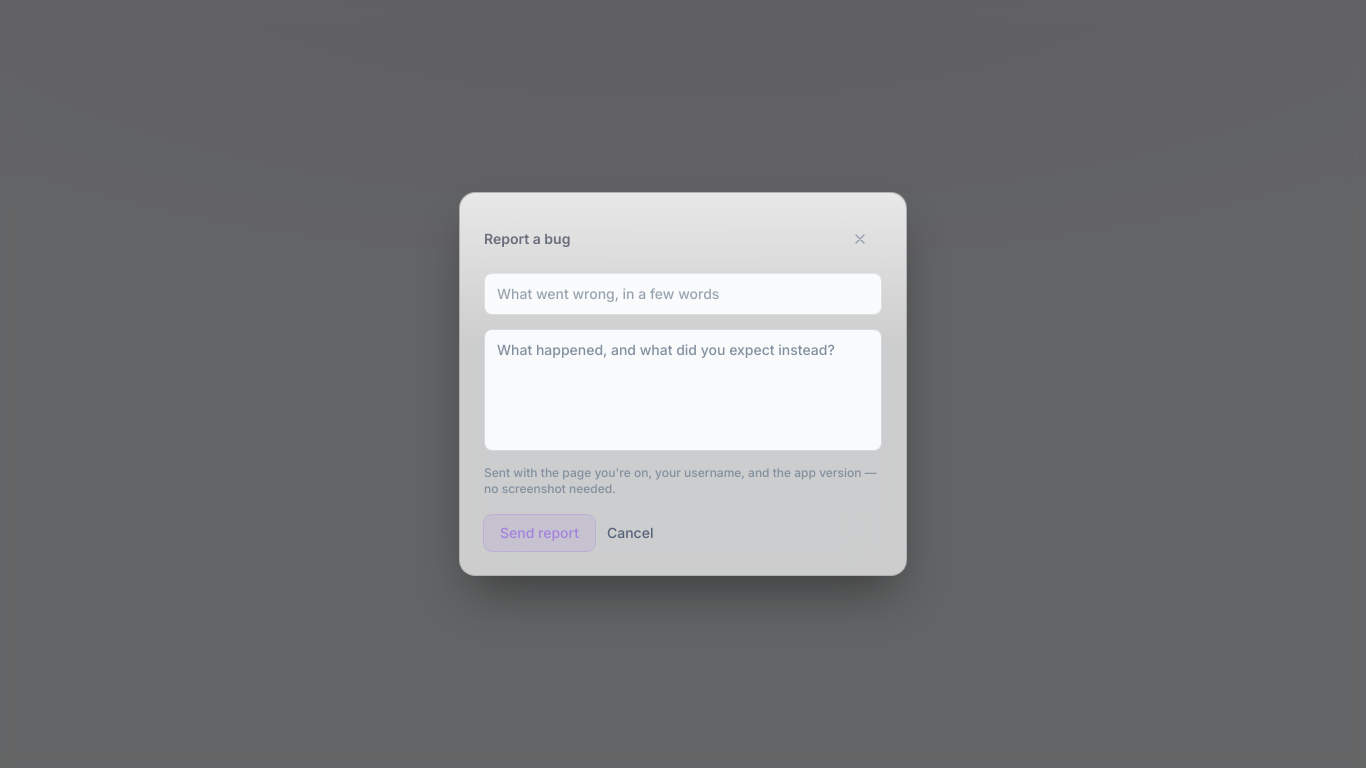
Test: ReportBugPanel › shows an error message when submission fails
The image size is (1366, 768).
In the field named "Bug title": (683, 294) [484,273,882,315], type "Title"
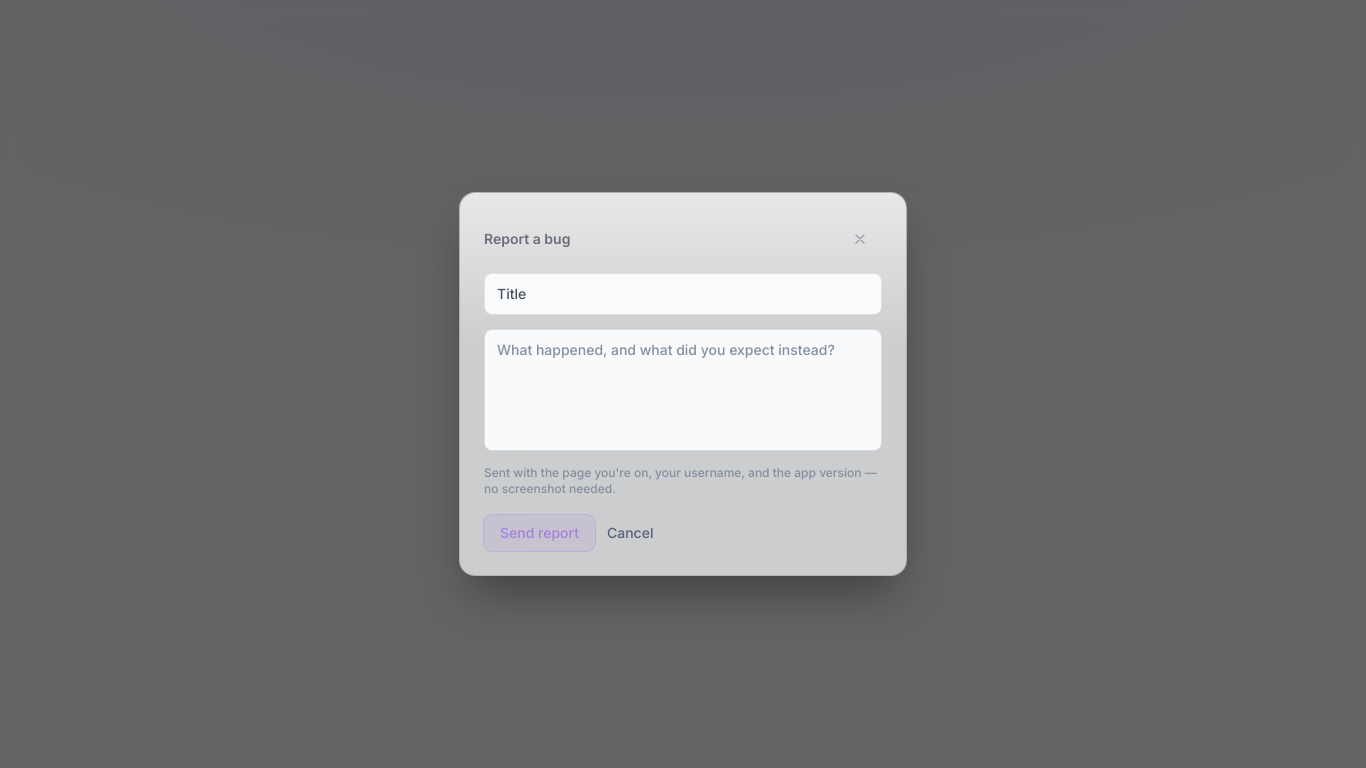
In the text box named "Bug description": (683, 390) [484,329,882,451], type "Description"
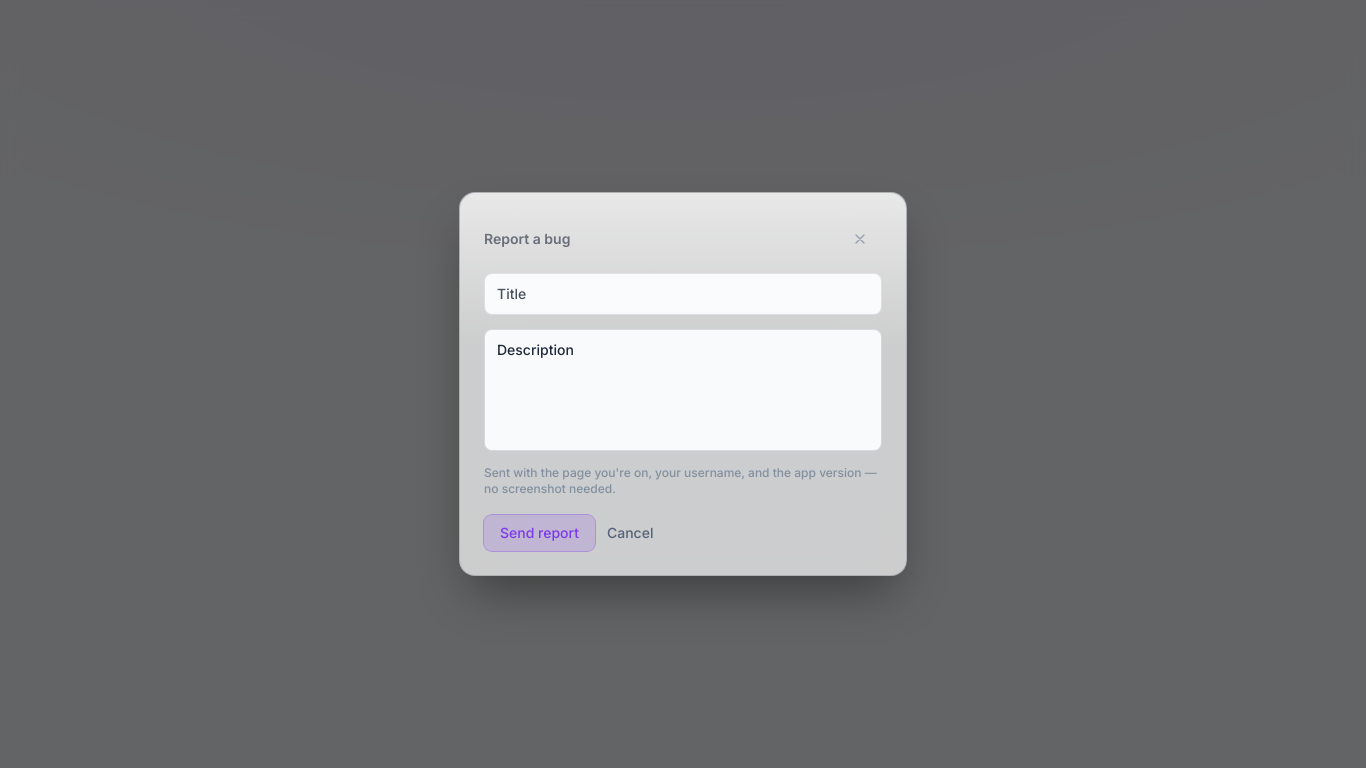
Click the button "Send report": (540, 533) [484,515,595,551]
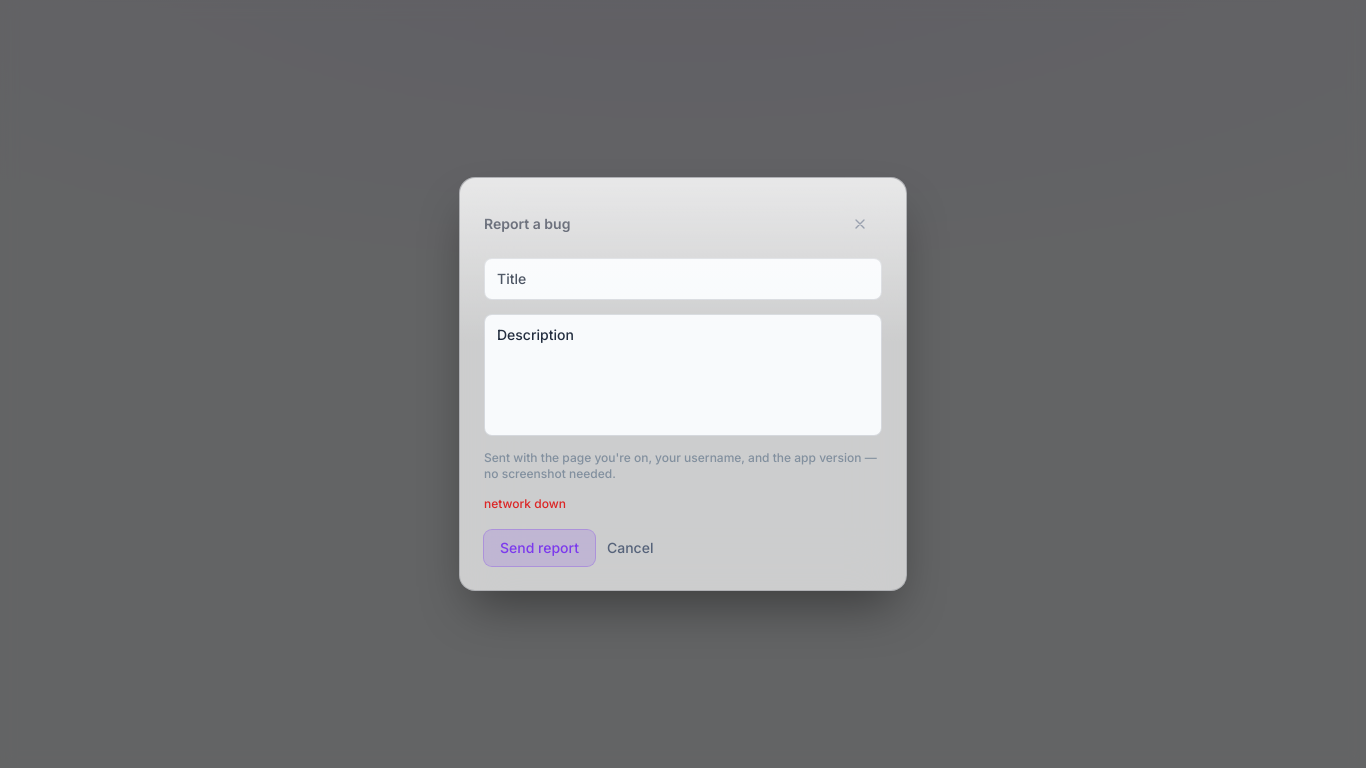
Expected: the text "network down" is shown, [484,496,566,511]
